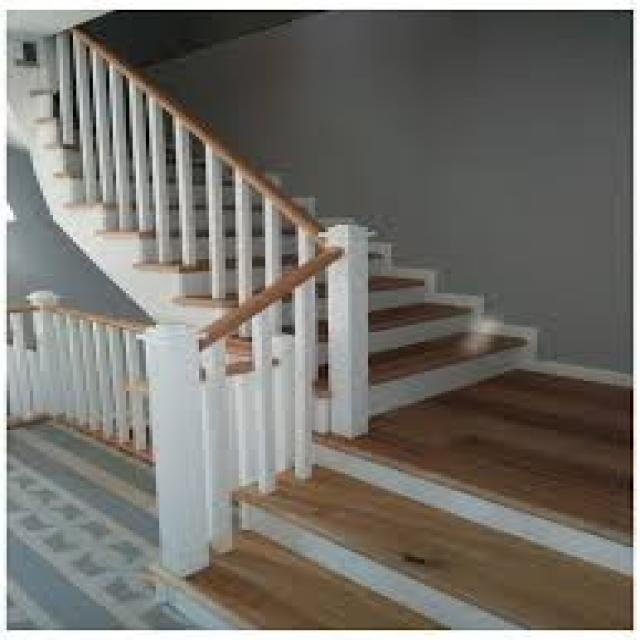stairs: (13, 24, 630, 628)
